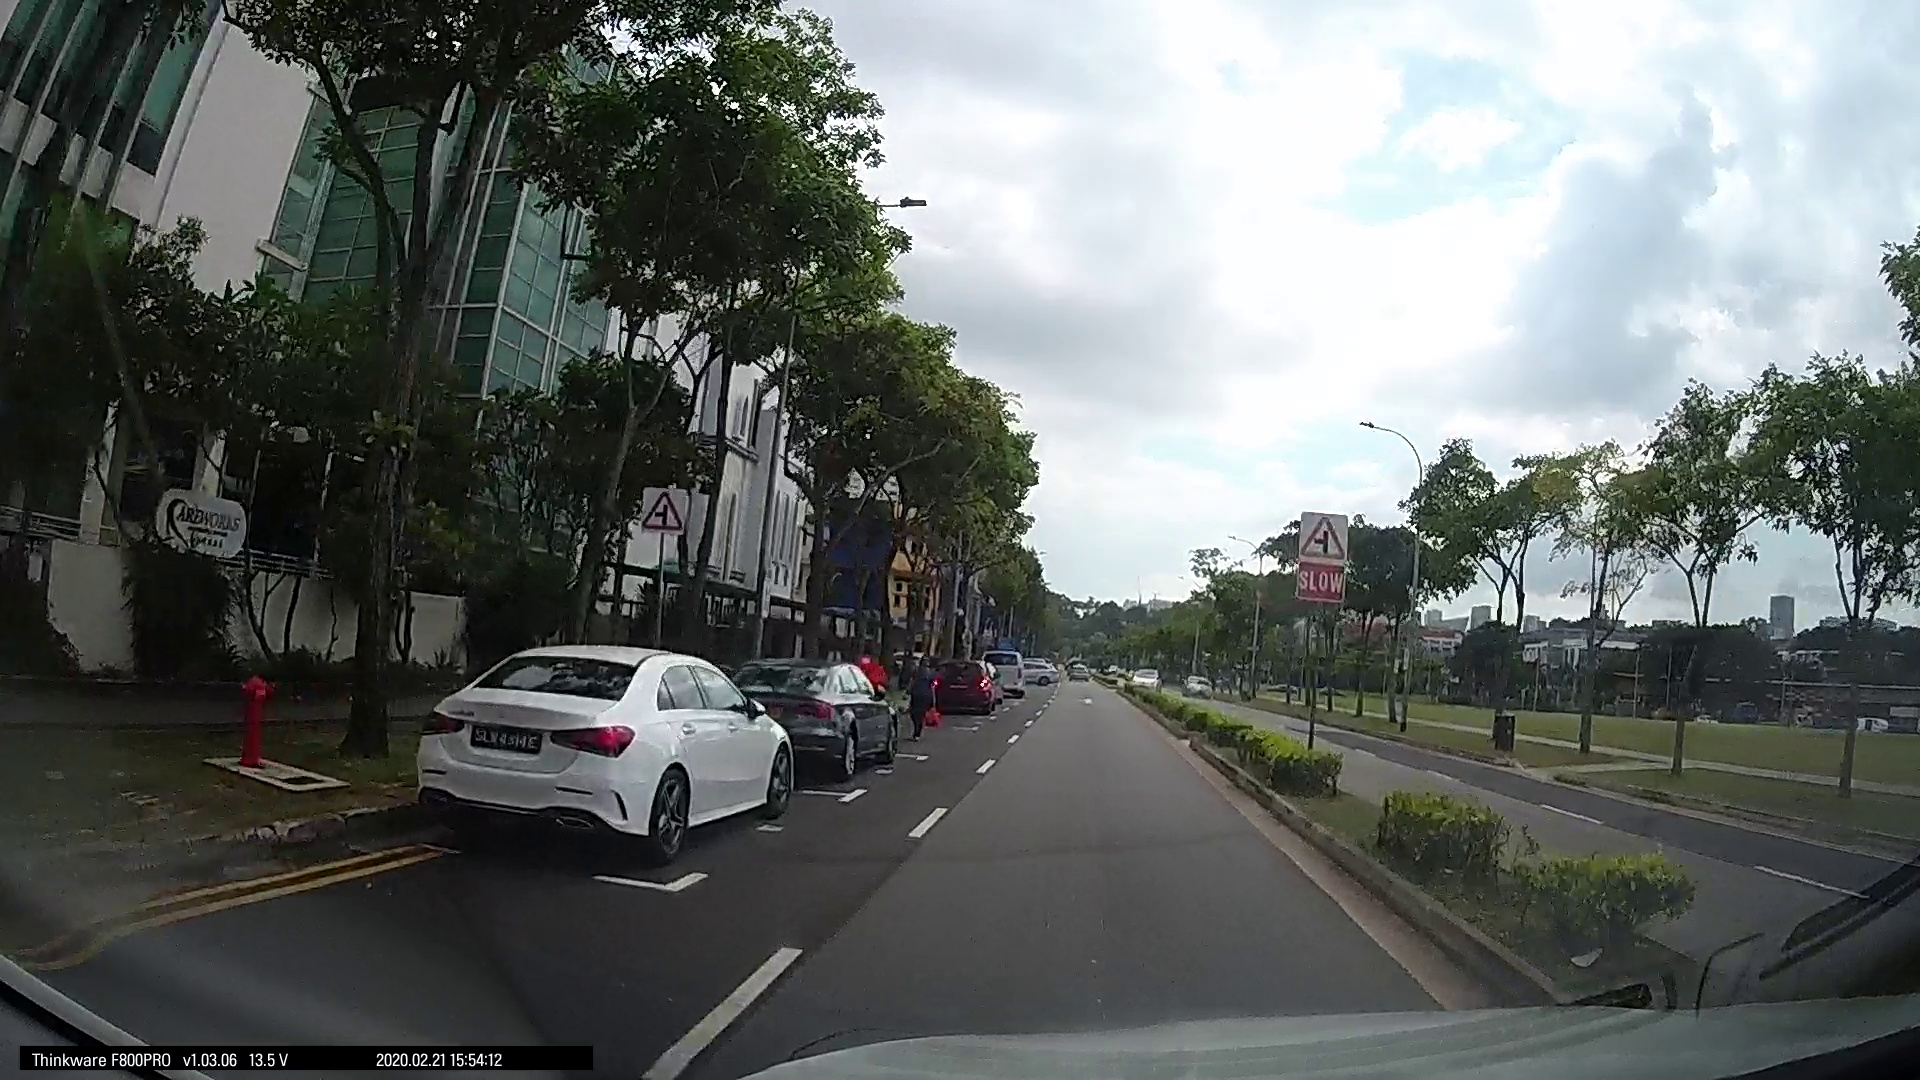Heavy Vehicle: (146, 516, 709, 952), (1481, 576, 1867, 857), (807, 622, 865, 695)
Light Vehicle: (669, 615, 799, 807), (1207, 667, 1323, 756), (920, 655, 980, 707), (1005, 651, 1062, 696)
